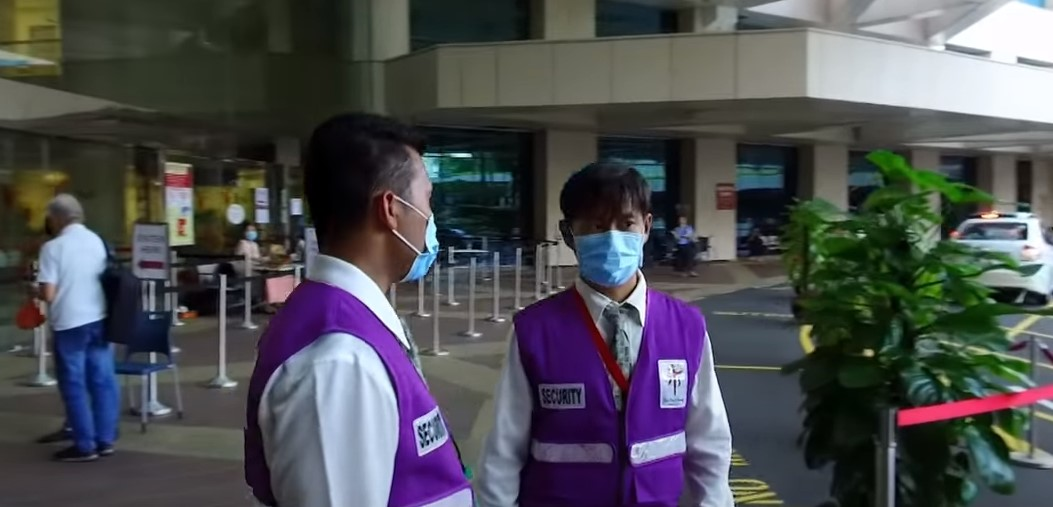face_with_mask: (304, 110, 444, 287), (558, 159, 657, 287)
